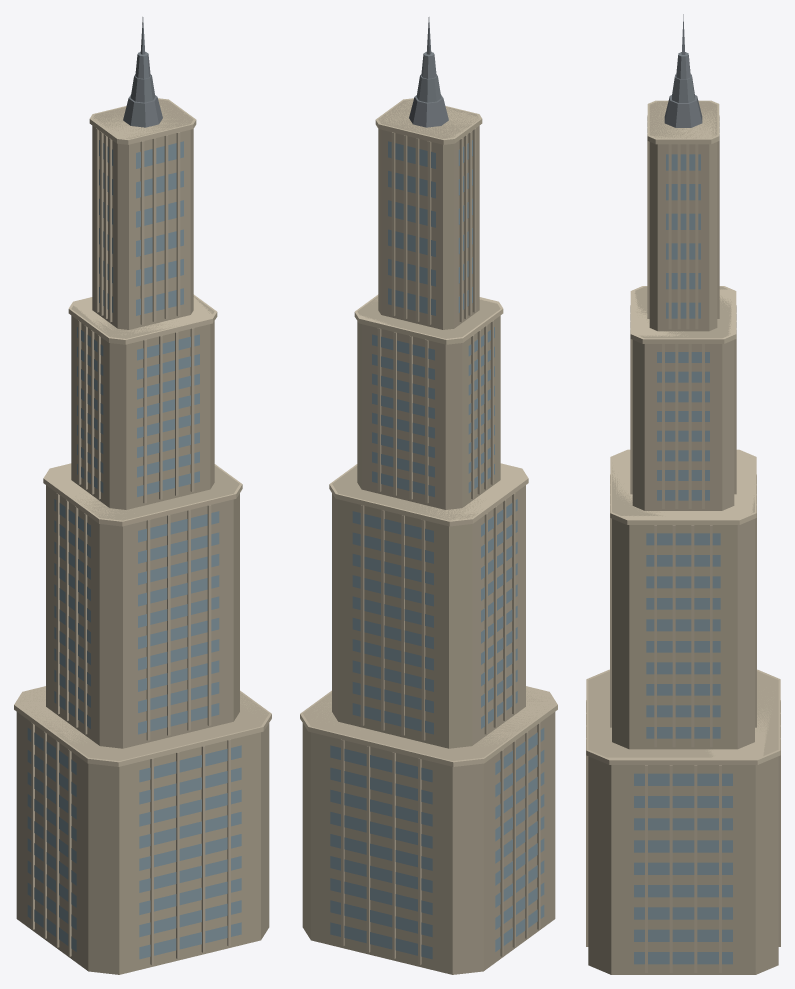
3 renders of one model, left to right at view 1: azimuth 30°, elevation 25°; view 2: azimuth 150°, elevation 25°; view 3: azimuth 270°, elevation 25°, orthographic.
Visible parts, largest first — view 1: deco-spire-lod1; view 2: deco-spire-lod1; view 3: deco-spire-lod1.
Part boxes in pixels (<box>): deco-spire-lod1: <box>14,17,271,974</box>; deco-spire-lod1: <box>300,17,557,974</box>; deco-spire-lod1: <box>586,14,780,974</box>.
Bounding box in the file's own units: 76 × 357 × 68.8.
